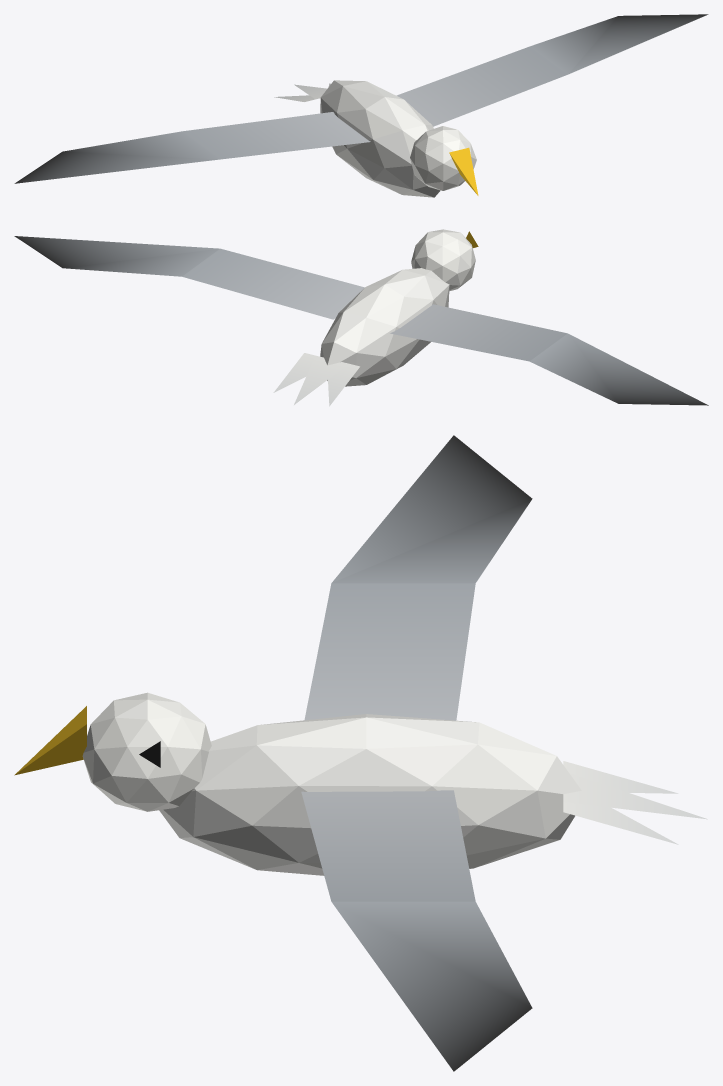
The model's file is gull.glb.
3 views of the same model, one above another, from view 1: azimuth 30°, elevation 25°; view 2: azimuth 150°, elevation 25°; view 3: azimuth 270°, elevation 25° (orthographic). The views are drawn at different scales.
Visible parts, largest first — view 1: gull_wing, gull_solid; view 2: gull_wing, gull_solid; view 3: gull_wing, gull_solid.
Boxes of the visible parts, x1,y1,x2,y2 form: gull_wing: (14, 14, 708, 183); gull_solid: (320, 80, 478, 197); gull_wing: (14, 236, 708, 406); gull_solid: (320, 229, 478, 386); gull_wing: (301, 435, 707, 1071); gull_solid: (14, 692, 581, 875).
Bounding box in the file's own units: 1.24 × 0.158 × 0.572.
